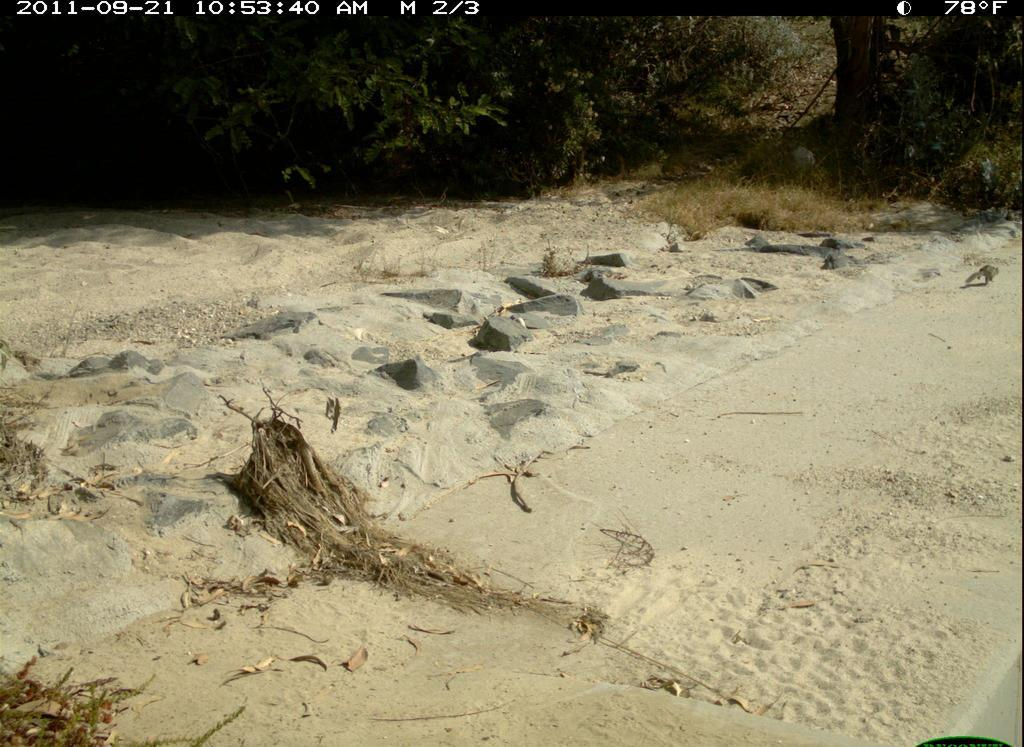squirrel: (957, 258, 1007, 297)
